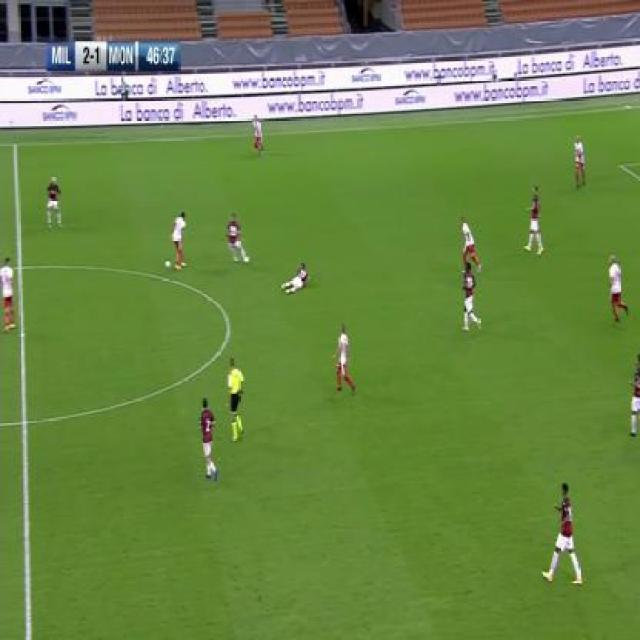ball: (164, 257, 172, 271)
player: (542, 487, 584, 592), (198, 397, 221, 480), (226, 355, 246, 443), (606, 255, 631, 324), (460, 262, 482, 336), (335, 323, 357, 397), (523, 183, 545, 257), (459, 215, 484, 274), (225, 211, 250, 265), (0, 255, 17, 334), (45, 173, 64, 233), (281, 259, 310, 298), (170, 210, 187, 269), (628, 354, 639, 443), (573, 133, 587, 190), (251, 113, 267, 156)
